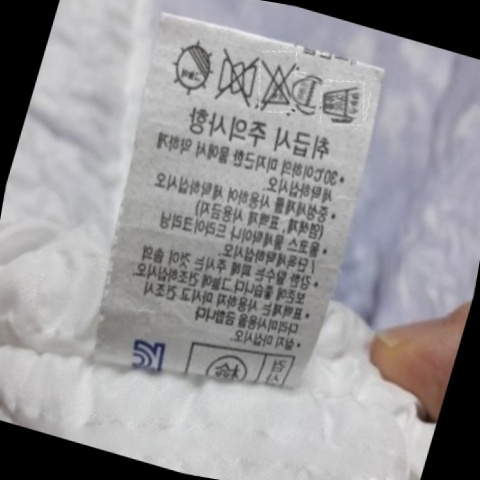DN_wring: (207, 45, 263, 107)
dry_clean: (288, 71, 328, 113)
hand_wash: (314, 73, 370, 127)
non_chlorine_bleach: (253, 54, 302, 114)
shade_dry: (161, 33, 222, 102)
